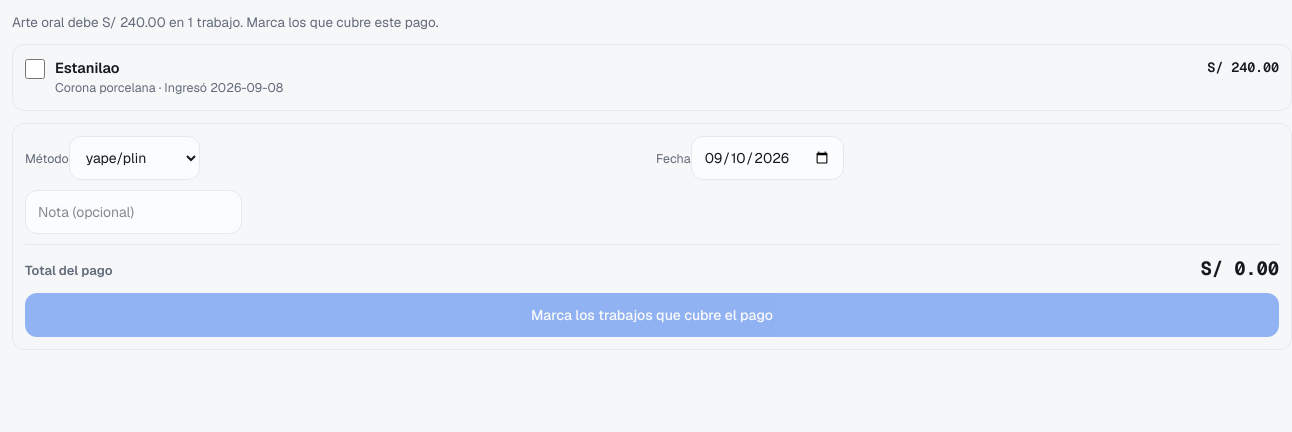
Test: FormularioDeCobro › muestra lo que queda pendiente de un trabajo cobrado a medias
This screenshot has width=1292, height=432.
Click the checkbox. click: [35, 69]
box: [25, 59, 45, 79]
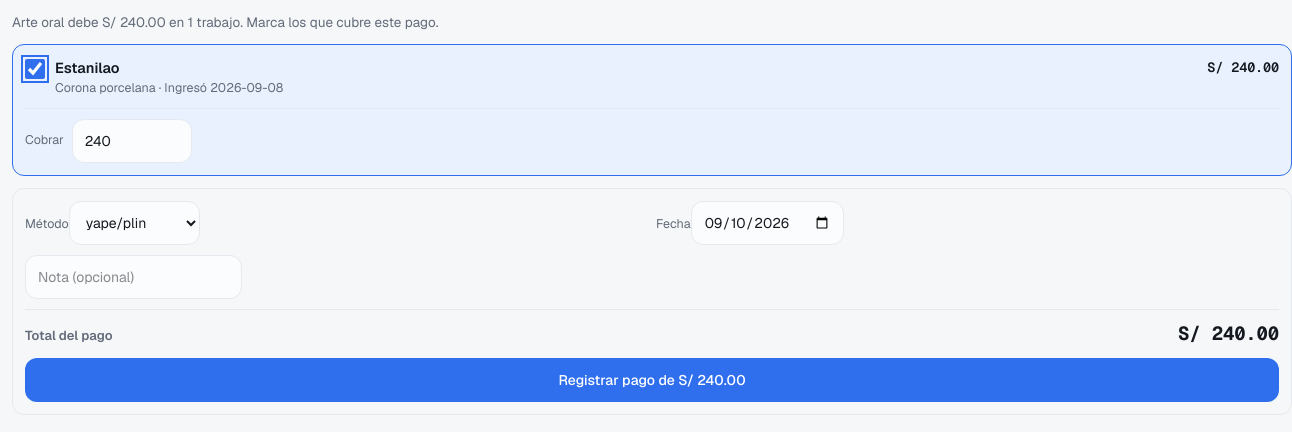
Replace the text in the number field named "importe para estanilao" with "20". click: [132, 141]
box: [72, 119, 192, 163]
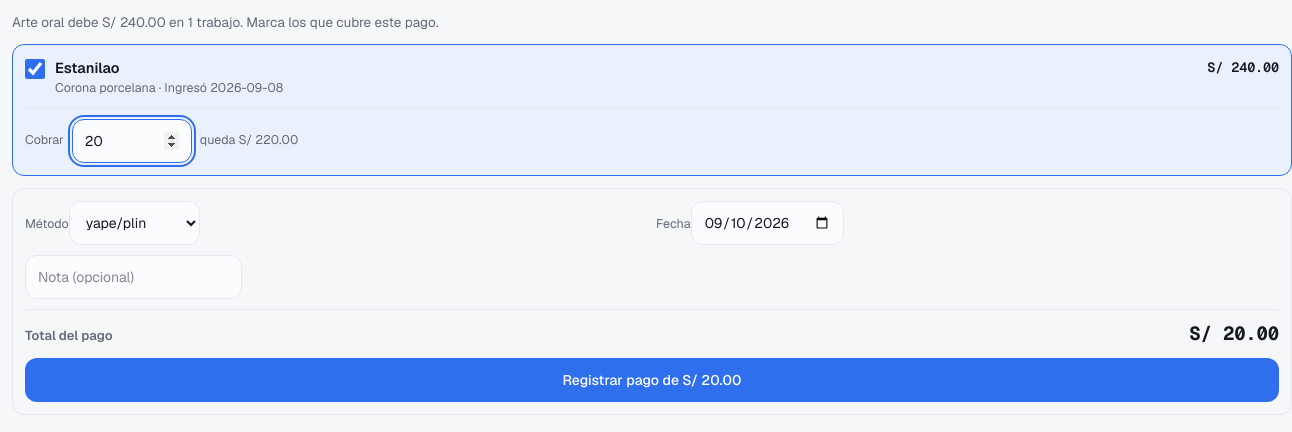
Expected: the text "queda" is shown, [200, 131, 239, 148]
Expected: the text "220" is shown, [239, 131, 298, 148]
